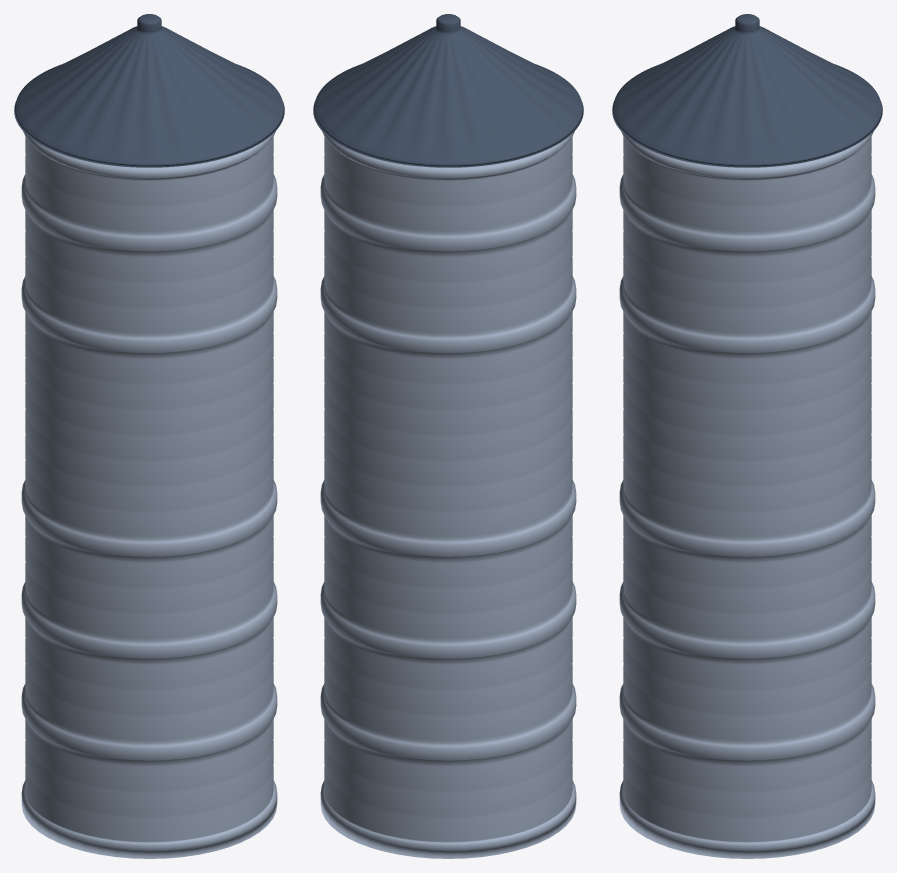
File: grain-silo-small-shell-authored-atlas.glb
3 views of the same model, side by side, from view 1: azimuth 30°, elevation 25°; view 2: azimuth 150°, elevation 25°; view 3: azimuth 270°, elevation 25° (orthographic).
Parts seen in each view (by area): view 1: Authored surface.001; view 2: Authored surface.001; view 3: Authored surface.001.
Part boxes in pixels (x1,y1,x2,y2): Authored surface.001: [14, 14, 284, 858]; Authored surface.001: [313, 14, 583, 858]; Authored surface.001: [612, 14, 882, 858].
Size of the model in its own units: 10.6 by 34 by 10.6.
1 material, 1 textured.
